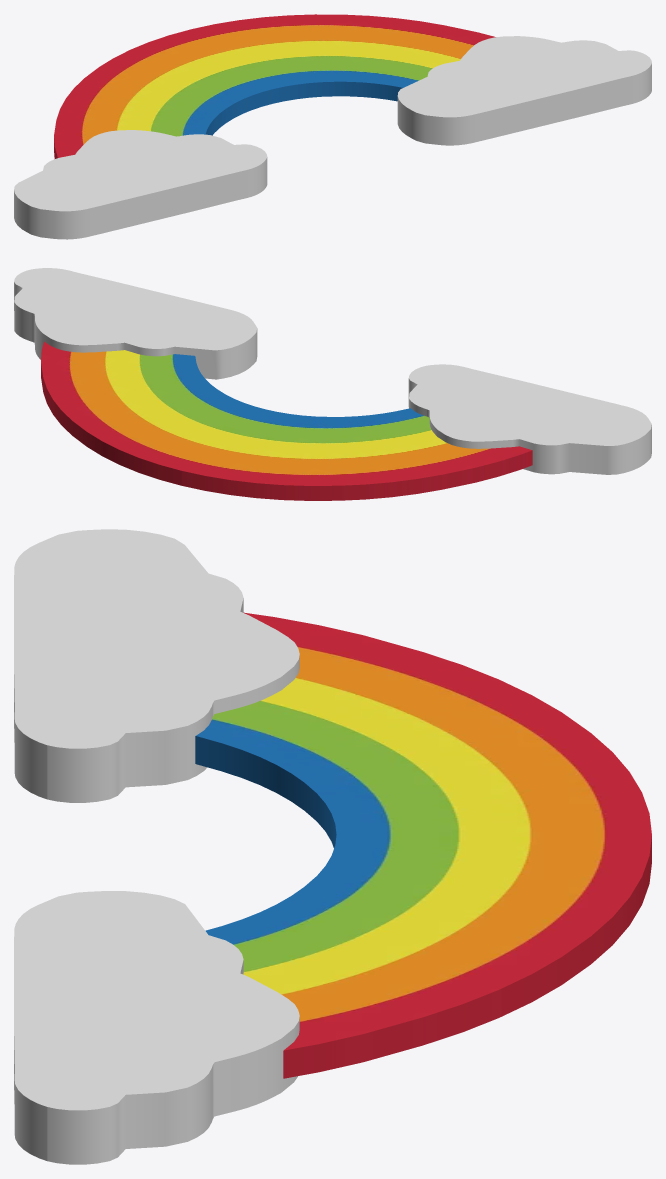
Rendered from Rainbow With Clouds-transformed.glb.
3 renders of one model, top to bottom at view 1: azimuth 30°, elevation 25°; view 2: azimuth 150°, elevation 25°; view 3: azimuth 270°, elevation 25°, orthographic. The views are drawn at different scales.
Parts seen in each view (by area): view 1: pDisc4; view 2: pDisc4; view 3: pDisc4.
Part boxes in pixels (<box>): pDisc4: <box>14,14,651,239</box>; pDisc4: <box>14,268,651,500</box>; pDisc4: <box>14,529,651,1164</box>.
Size of the model in its own units: 0.087 by 0.0038 by 0.0404.
2 materials, 1 textured.
